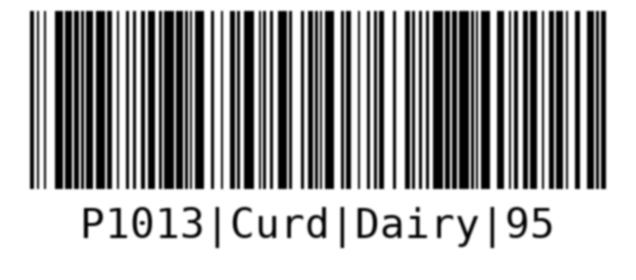milk: (26, 7, 610, 267)
